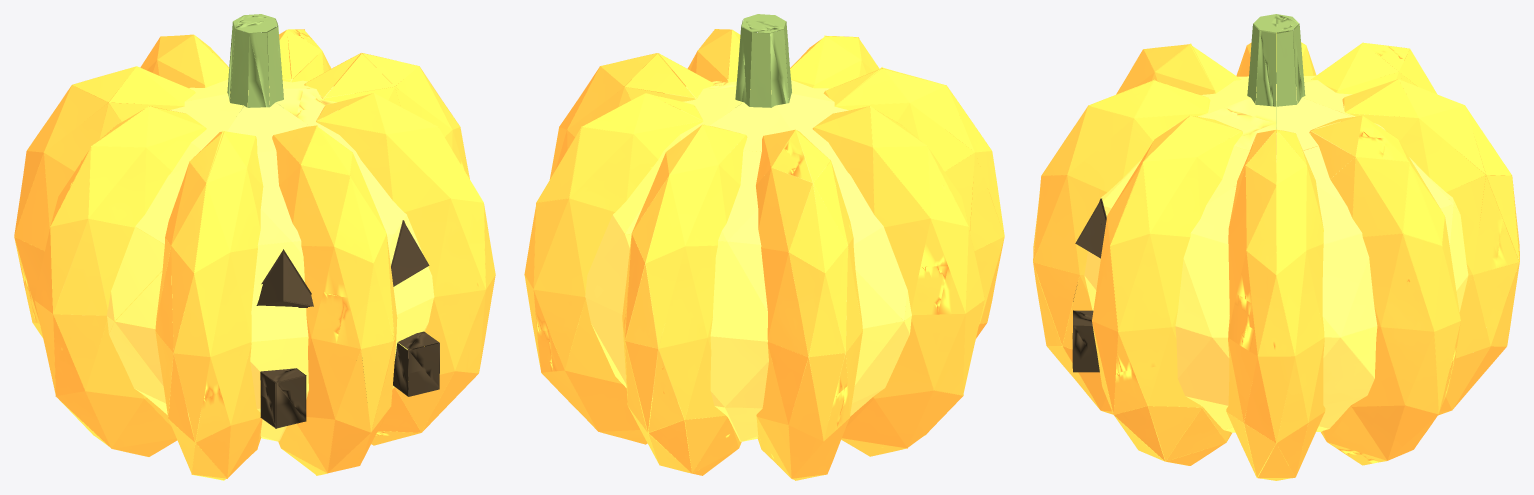
File: halloween_pumpkin.glb
3 renders of one model, left to right at view 1: azimuth 30°, elevation 25°; view 2: azimuth 150°, elevation 25°; view 3: azimuth 270°, elevation 25°, orthographic.
Visible parts, largest first — view 1: Pumpkin; view 2: Pumpkin; view 3: Pumpkin.
Part boxes in pixels (bbox=[...]): Pumpkin: bbox=[14, 14, 495, 480]; Pumpkin: bbox=[524, 14, 1004, 480]; Pumpkin: bbox=[1033, 14, 1519, 480].
Bounding box in the file's own units: 1.91 × 1.77 × 1.92.
